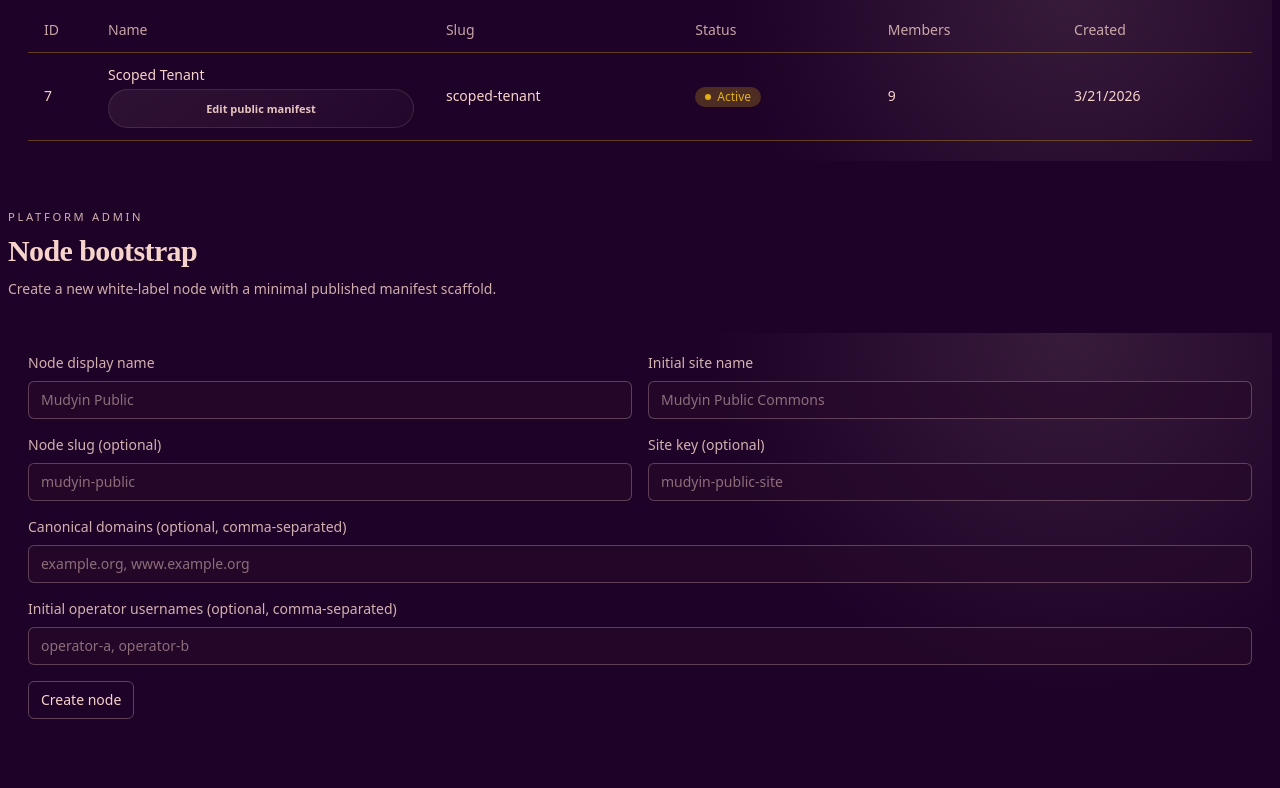
Test: TenantsListPage › surfaces bootstrap conflict errors honestly
(page scrolled)
Expected: the heading "Node bootstrap" is shown, [8, 234, 197, 267]
Type "Existing Node" into the field labelled "Node display name" at (330, 400), box [28, 381, 632, 419]
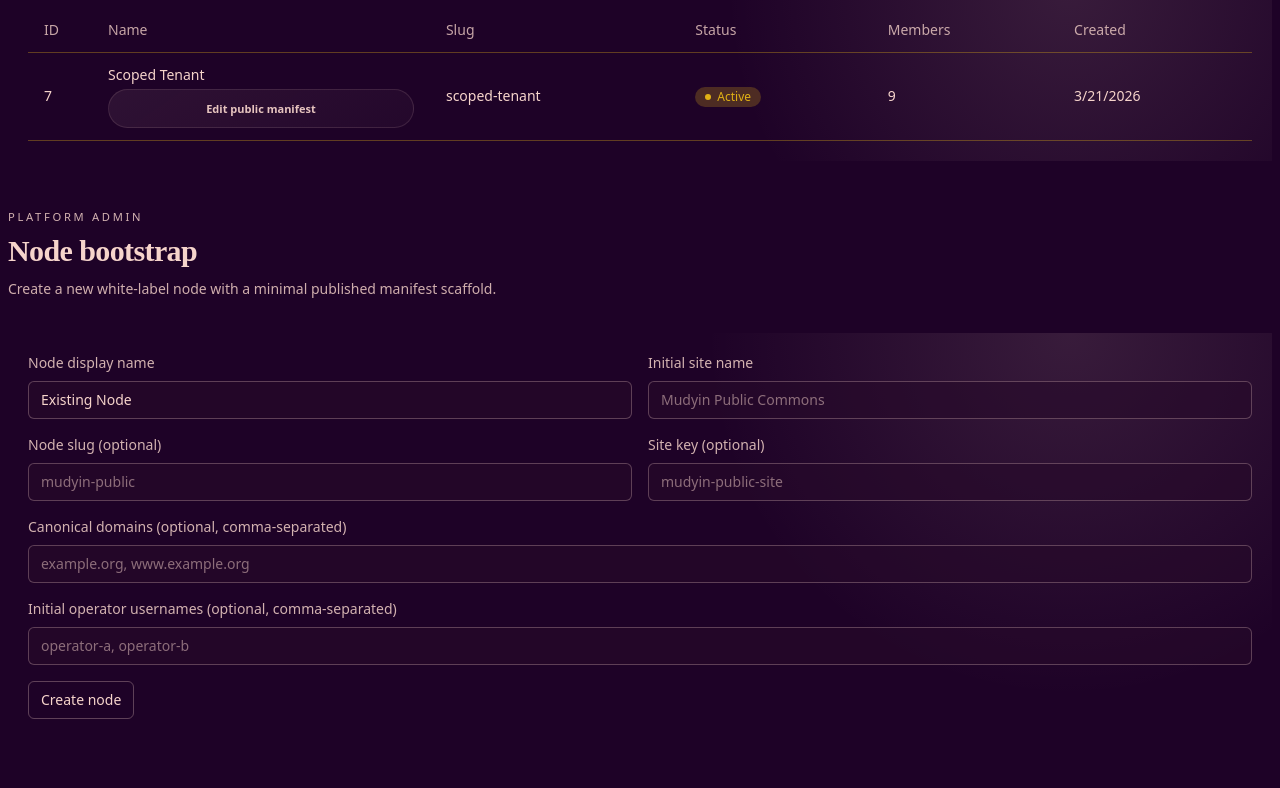
Type "Existing Site" into the field labelled "Initial site name" at (950, 400), box [648, 381, 1252, 419]
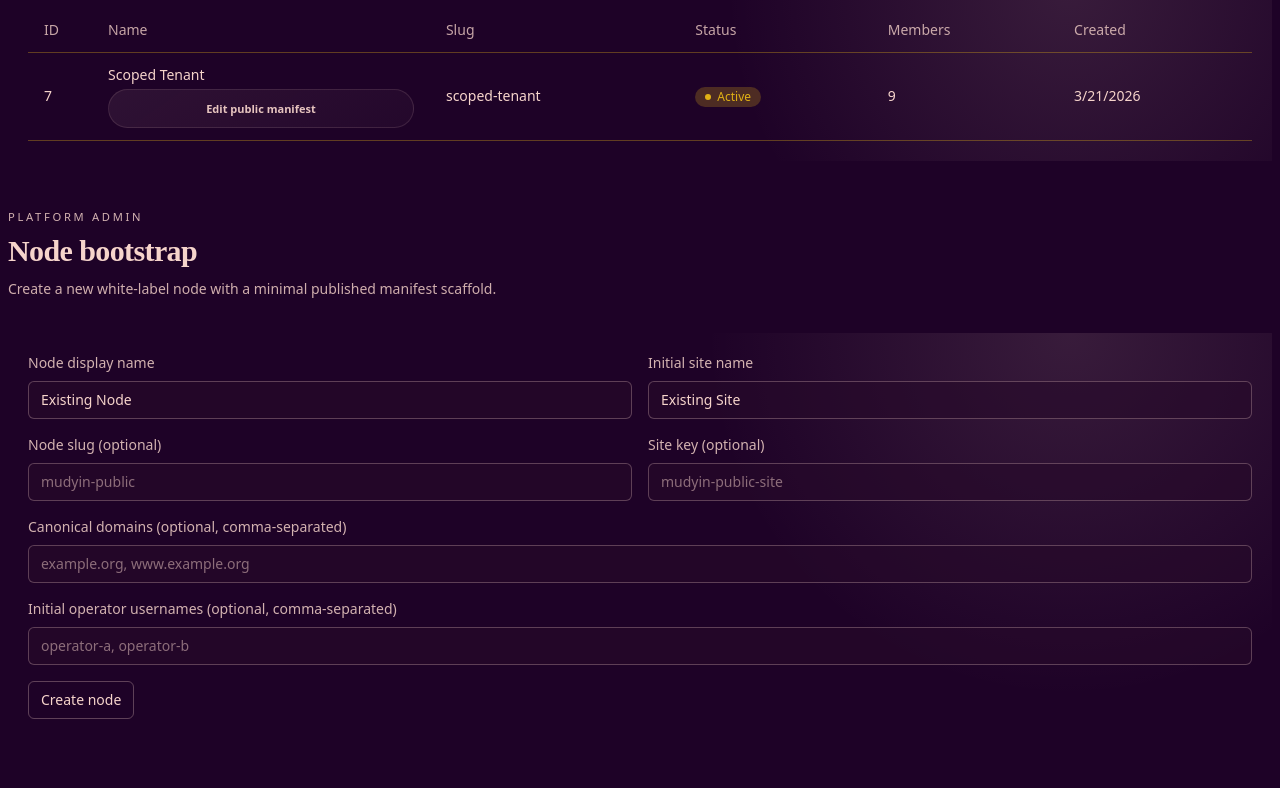
Click the button "Create node" at (81, 700), box [28, 681, 134, 719]
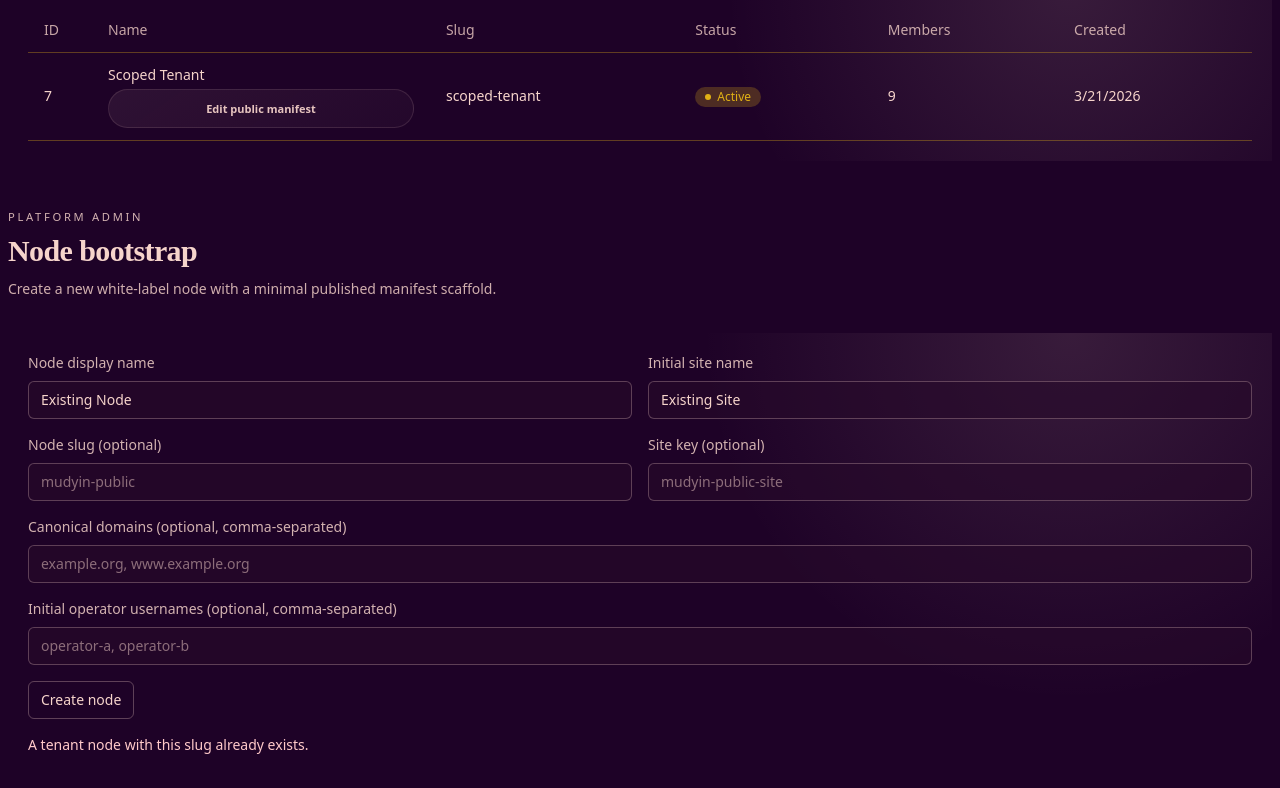
Result: the text "A tenant node with this slug already exists." is shown at [28, 735, 308, 754]
